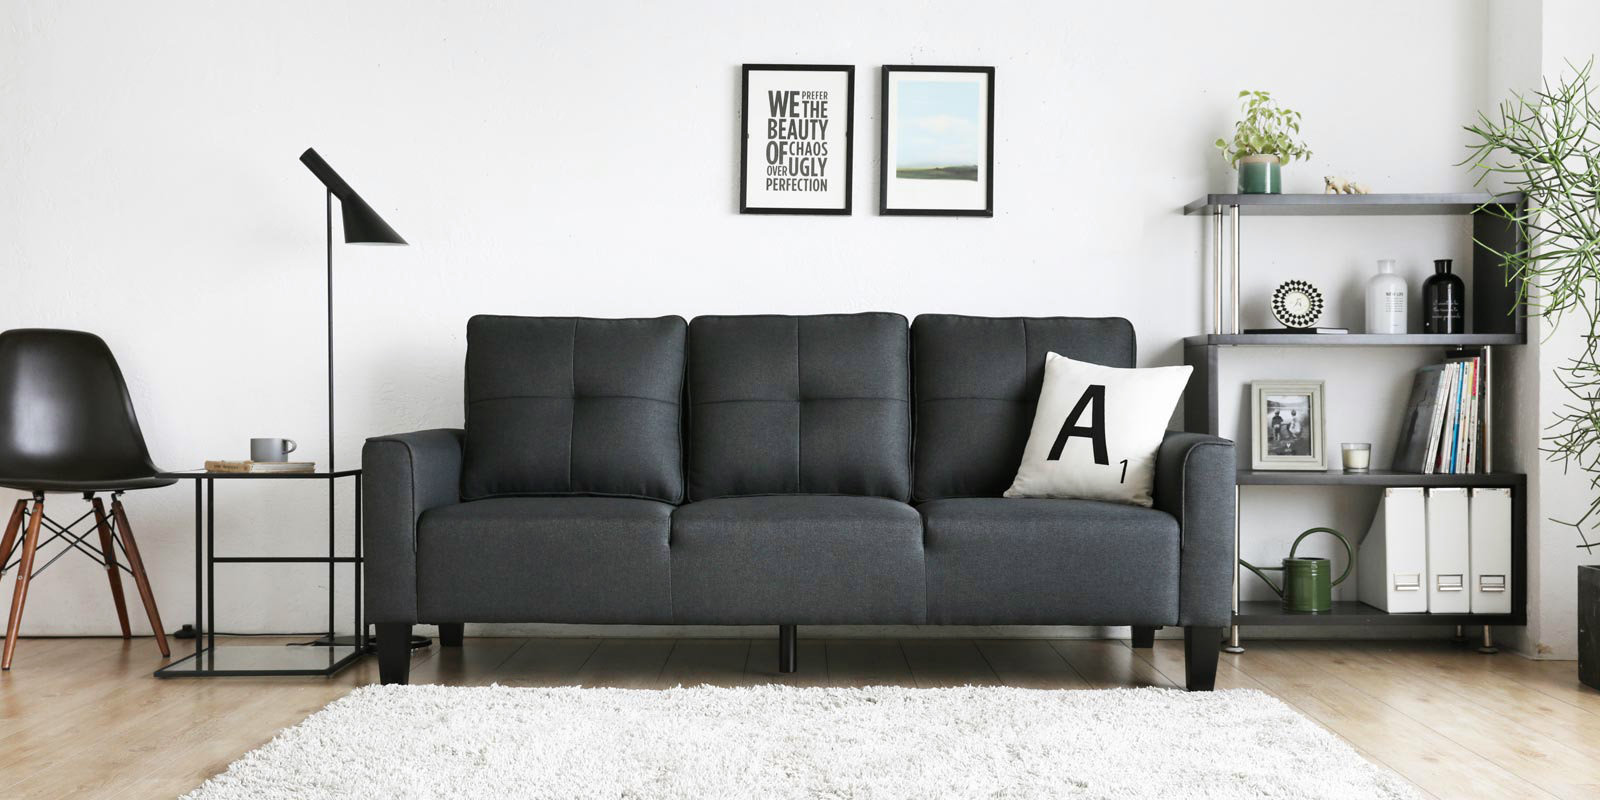Alice Three Seater Sofa in Grey Colour by Zofa: (355, 310, 1245, 699)
